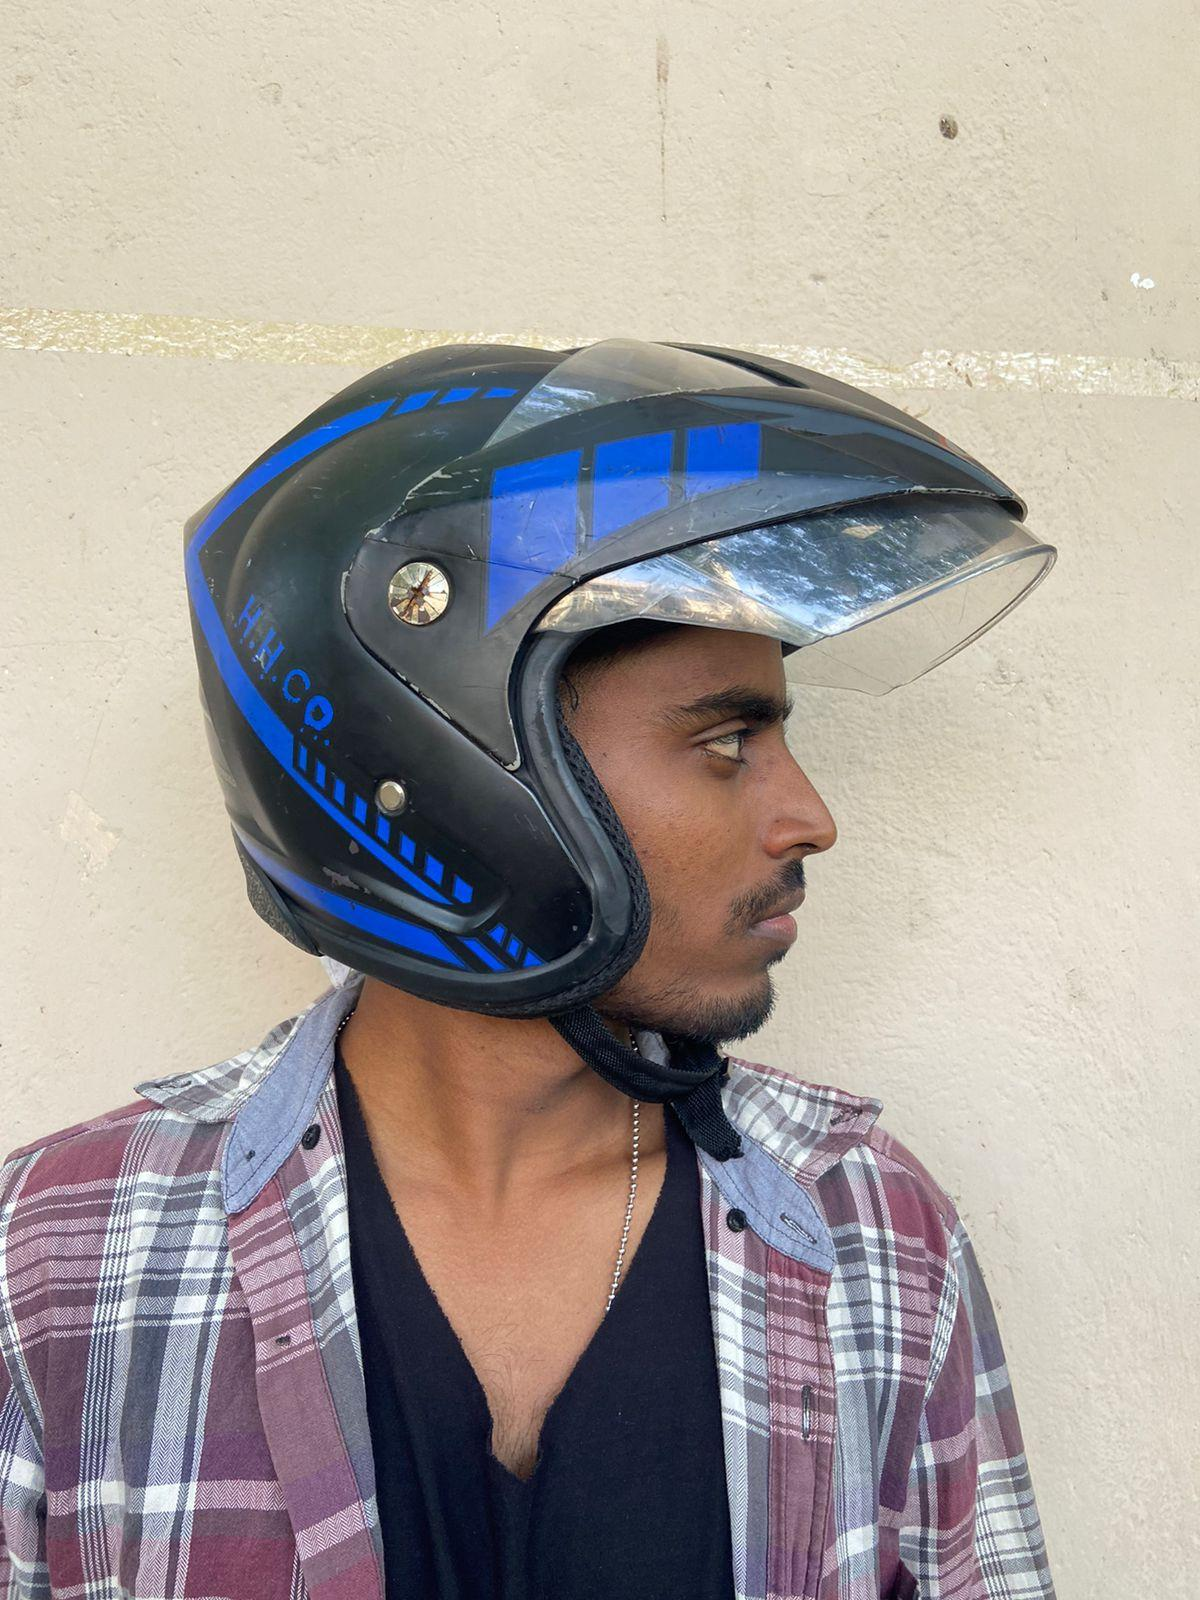helmet: (179, 336, 1063, 1022)
